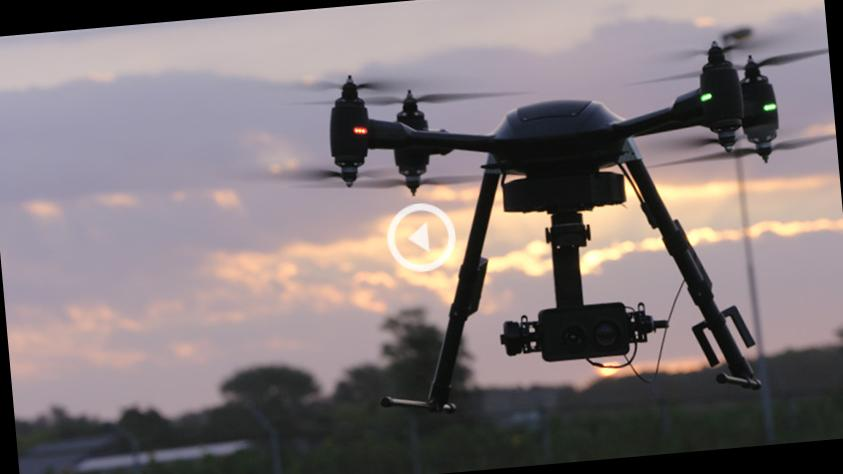drone: (229, 24, 839, 256)
